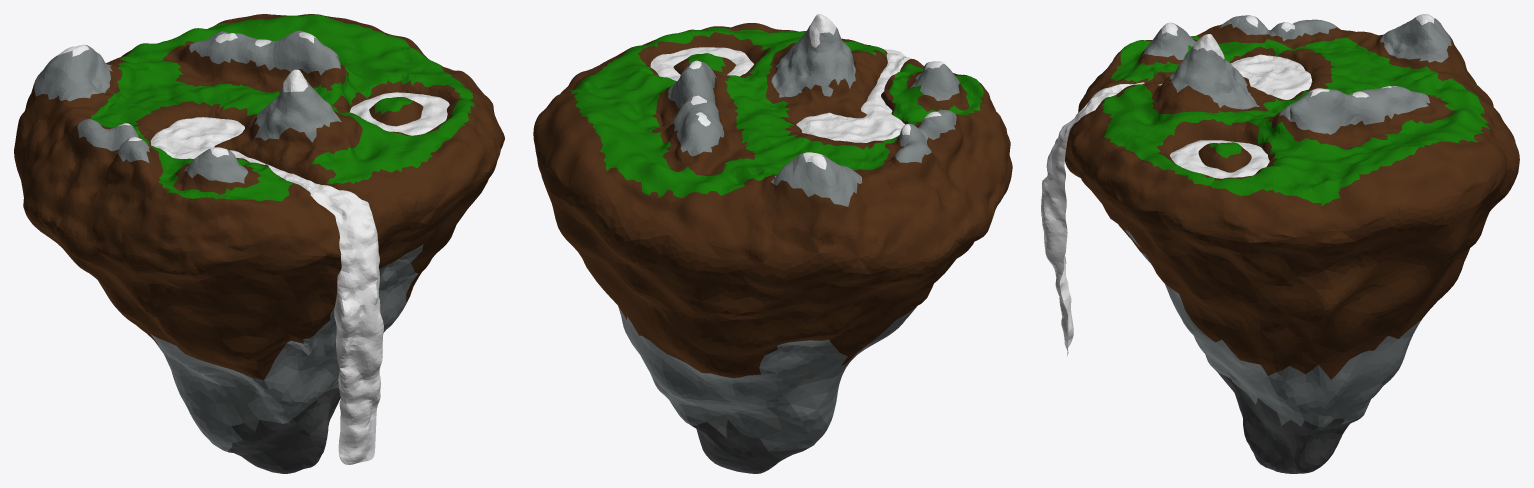
Rendered from HauptweltSubdivision.fbx.
3 renders of one model, left to right at view 1: azimuth 30°, elevation 25°; view 2: azimuth 150°, elevation 25°; view 3: azimuth 270°, elevation 25°, orthographic. The views are drawn at different scales.
Visible parts, largest first — view 1: Welt.001, Wasser.001; view 2: Welt.001, Wasser.001; view 3: Welt.001, Wasser.001.
Boxes of the visible parts, box(x1,y1,x2,y2) form: Welt.001: box(14, 14, 504, 473); Wasser.001: box(150, 92, 449, 464); Welt.001: box(533, 14, 1012, 473); Wasser.001: box(650, 47, 911, 142); Welt.001: box(1065, 14, 1519, 473); Wasser.001: box(1041, 54, 1312, 356).
Size of the model in its own units: 71482 by 71497 by 73519.
